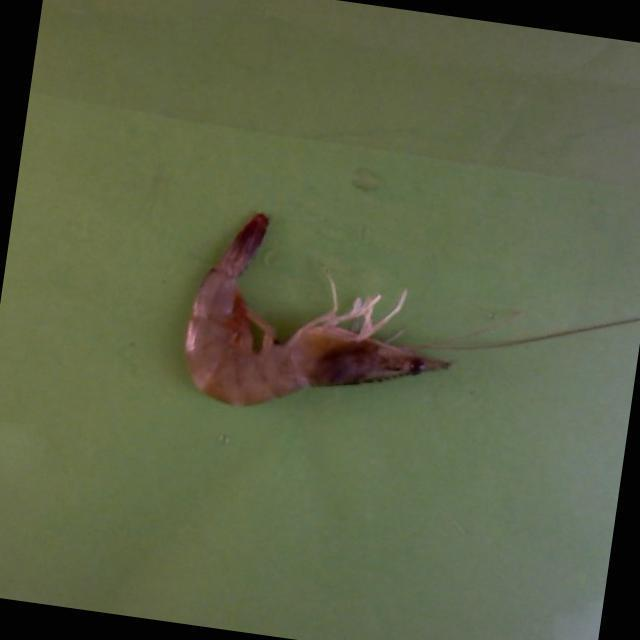shrimp: (183, 213, 449, 404)
